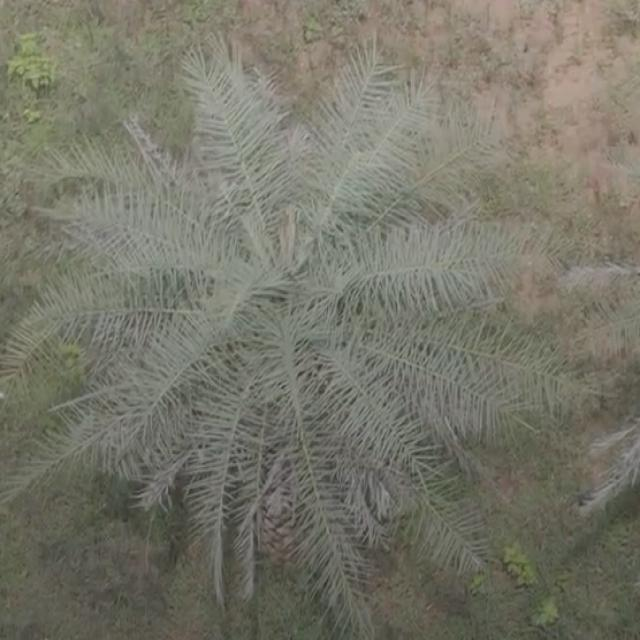notMangoTree: (8, 28, 598, 639)
